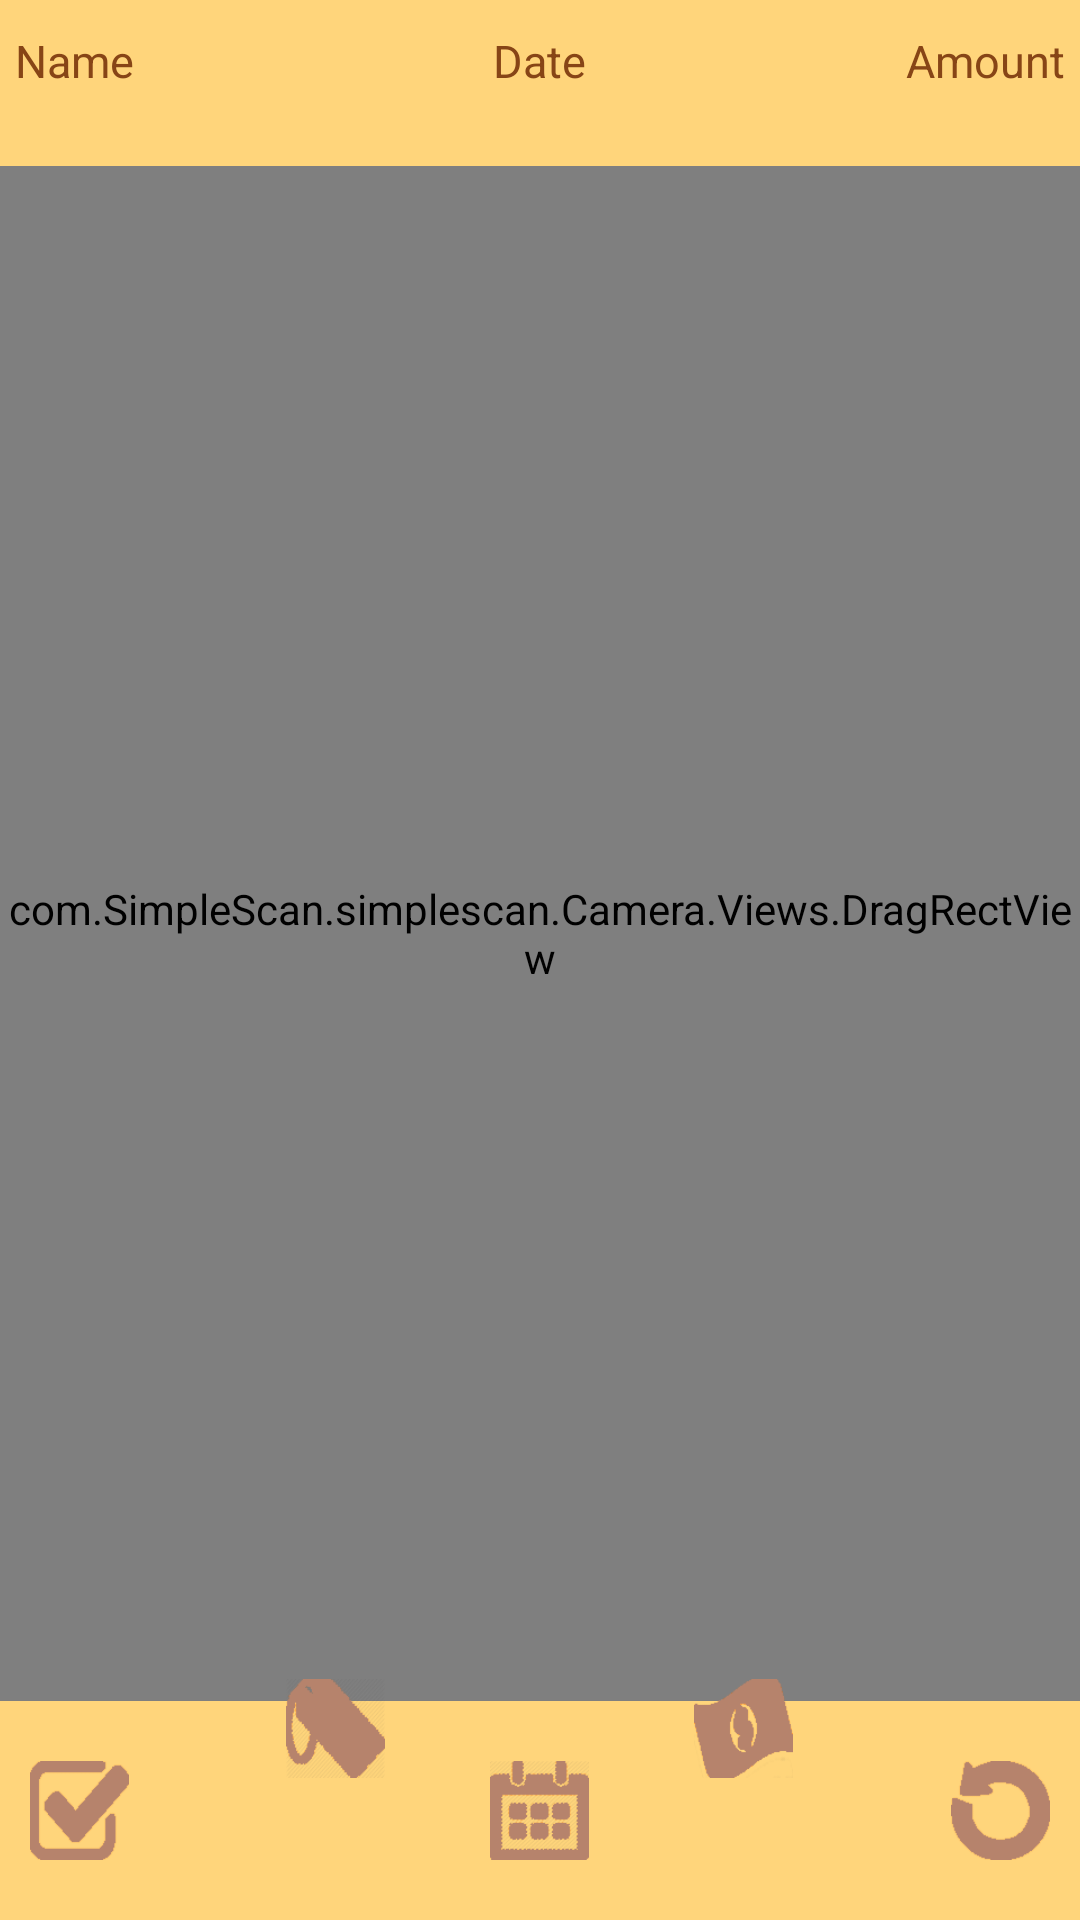

Icon bounding boxes for this 1080x1920 phone screenshot, format (x1, y1, x2, y2):
record amt layout: (694, 1679, 793, 1778)
record date layout: (490, 1761, 589, 1860)
record name layout: (286, 1679, 385, 1778)
